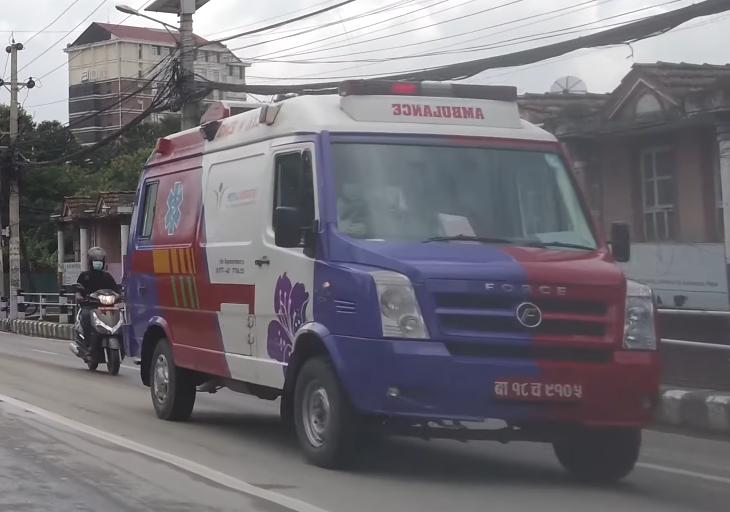ambulance: (109, 73, 664, 492)
scooter: (68, 280, 132, 379)
